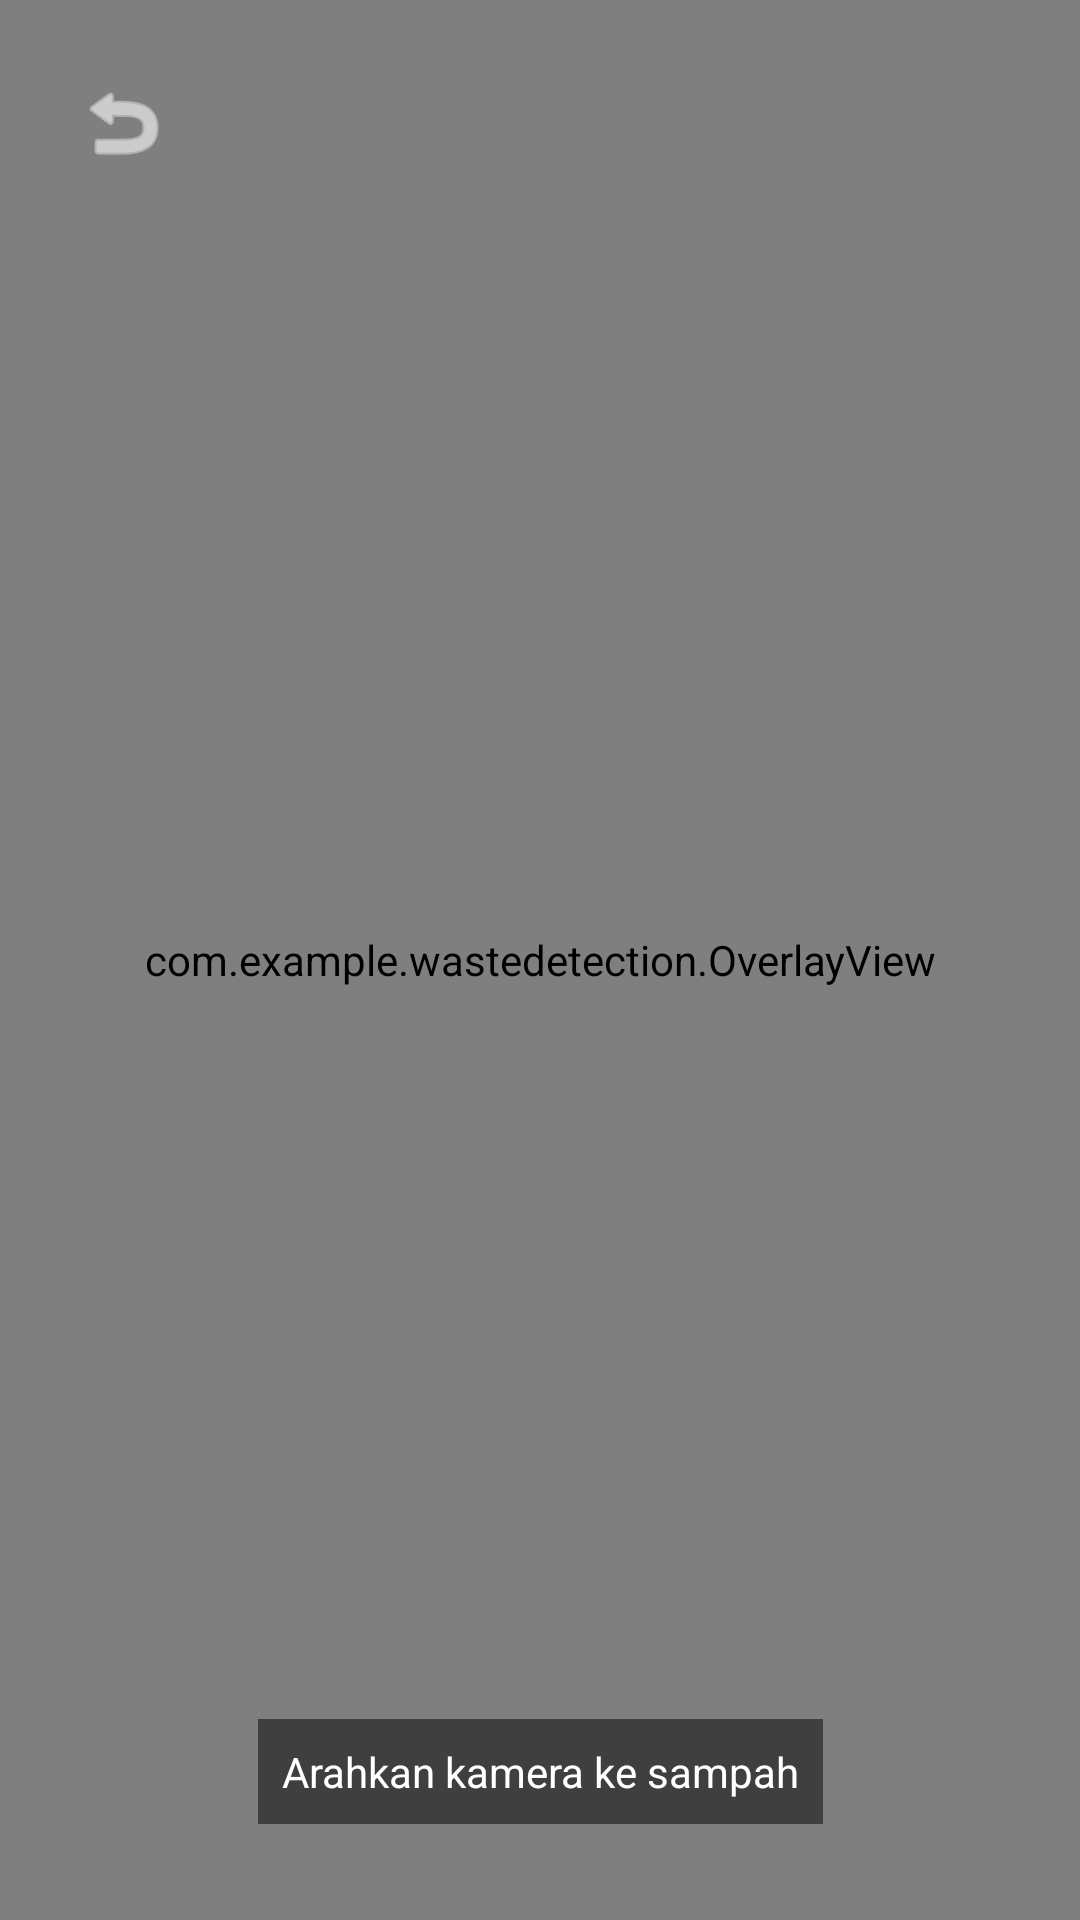

Icon bounding boxes for this 1080 × 1920 phone screenshot, format (x1, y1, x2, y2):
revert: (90, 93, 159, 155)
